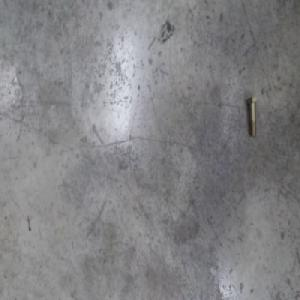Bolt: (247, 95, 258, 137)
